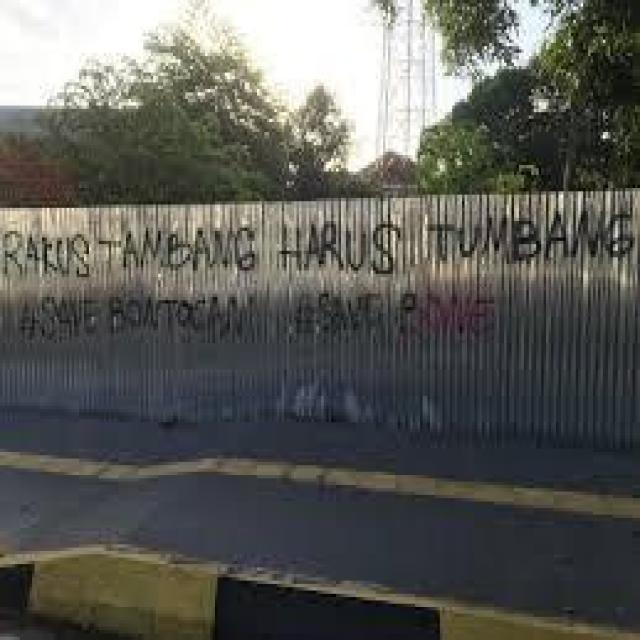nonspitting: (428, 211, 634, 262), (99, 224, 256, 272), (280, 221, 398, 275), (111, 297, 262, 338), (396, 287, 496, 344), (2, 228, 90, 282), (20, 294, 100, 338), (292, 294, 382, 332)
